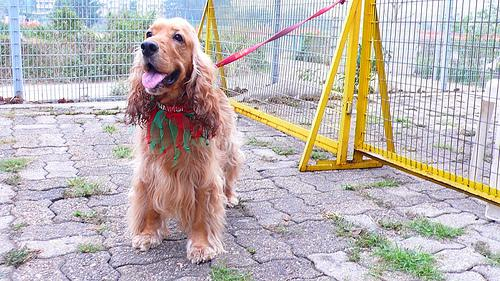dog-english_cocker_spaniel: (127, 16, 218, 120)
